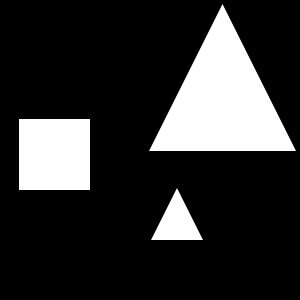circle: (19, 119, 90, 190)
triangle: (149, 4, 296, 151), (151, 188, 203, 240)
